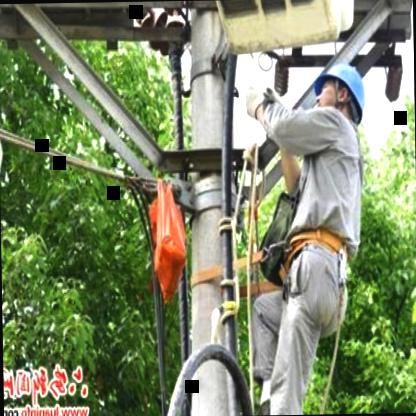helmet: (304, 55, 370, 131)
